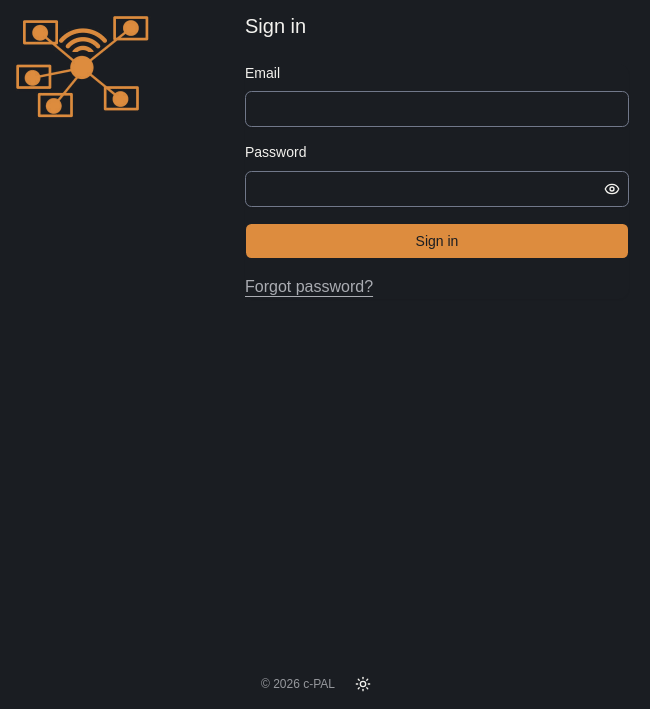
Login › shows the mapped generic rejection copy on invalid credentials, never the raw {error:{code,message}} body (FR7, anti-enumeration)
The width and height of the screenshot is (650, 709).
Type "demo@cpal.test" into the field labelled "Email" at (437, 109), box [245, 91, 629, 127]
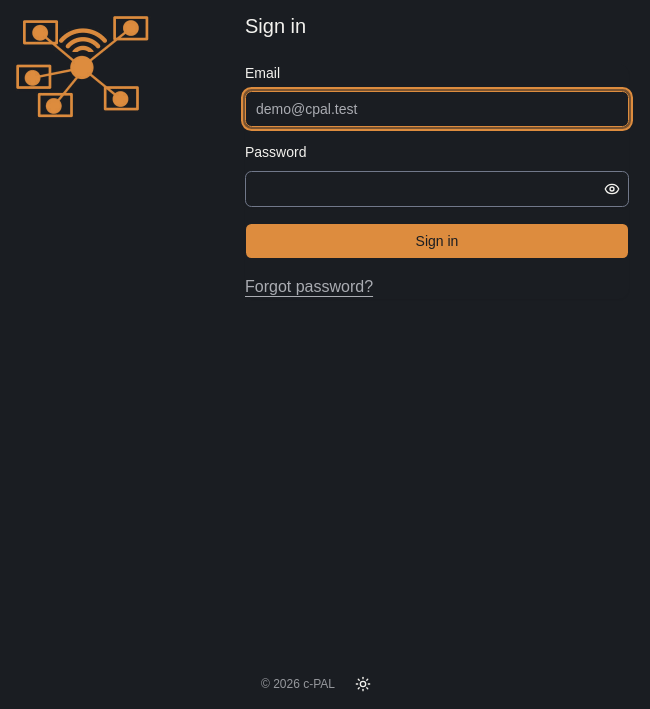
Type "wrong-password" into the password field labelled "Password" at (423, 188), box [246, 170, 600, 206]
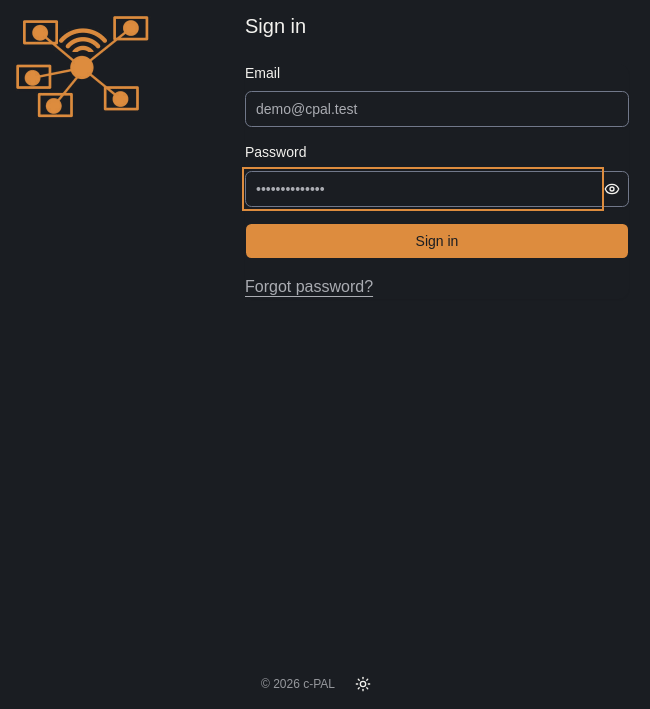
Click the button with test id "login-submit" at (437, 240), box [245, 222, 629, 258]
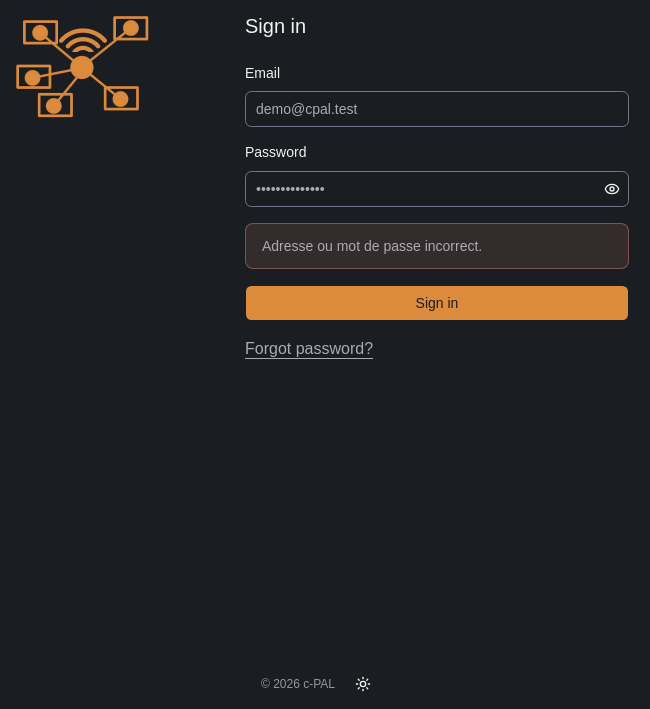
expect the form with test id "login-form" is shown: met, box [245, 64, 629, 360]
expect the message with test id "login-error" reads "Adresse ou mot de passe incorrect.": met, box [262, 238, 482, 254]
